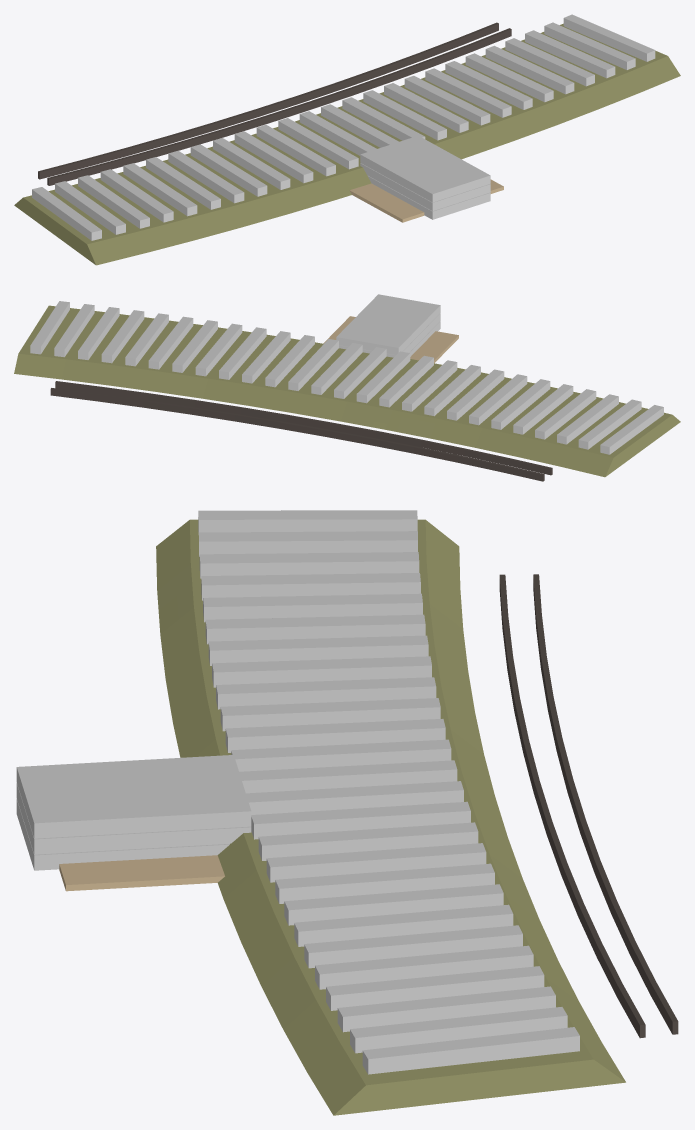
The model's file is SM_Via_CurvaR60_v3_Obra_LOD0.fbx.
3 renders of one model, top to bottom at view 1: azimuth 30°, elevation 25°; view 2: azimuth 150°, elevation 25°; view 3: azimuth 270°, elevation 25°, orthographic. The views are drawn at different scales.
Visible parts, largest first — view 1: SM_via_trazado_v13_LOD0; view 2: SM_via_trazado_v13_LOD0; view 3: SM_via_trazado_v13_LOD0.
Boxes of the visible parts, x1,y1,x2,y2 form: SM_via_trazado_v13_LOD0: [14, 14, 680, 265]; SM_via_trazado_v13_LOD0: [14, 294, 680, 481]; SM_via_trazado_v13_LOD0: [16, 510, 678, 1115].
Size of the model in its own units: 16 by 0.63 by 7.85.
